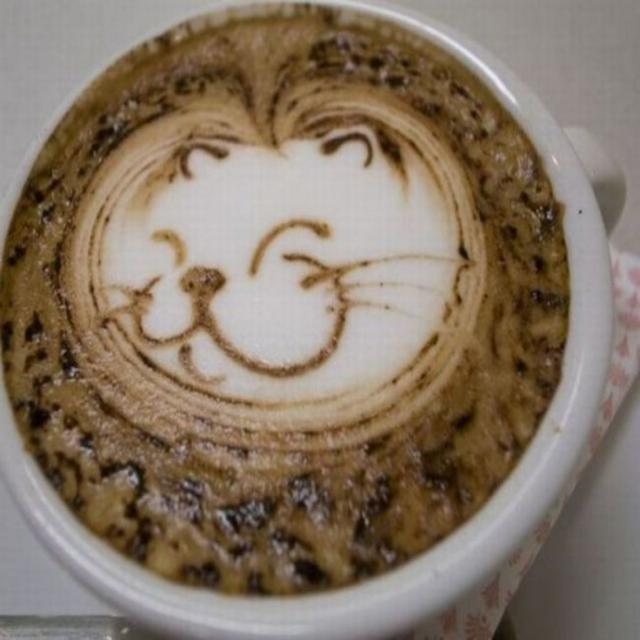latte: (1, 1, 572, 606)
